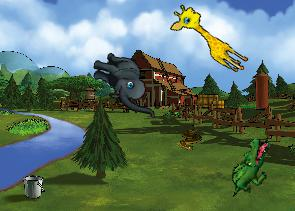crocodile: (230, 136, 270, 198)
elephant: (85, 50, 164, 118)
giraffe: (165, 0, 256, 76)
